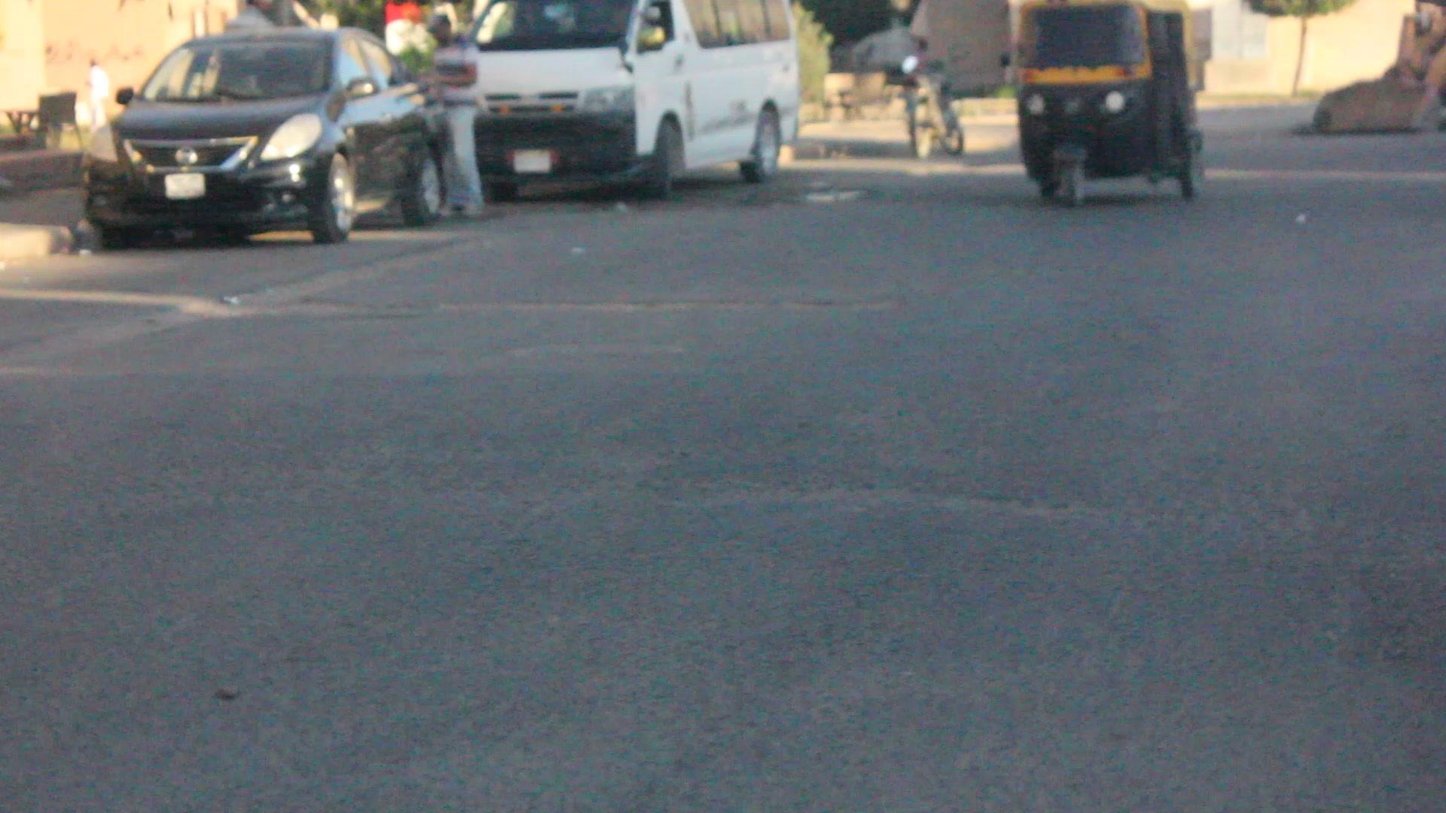Bump: (0, 371, 1445, 529)
